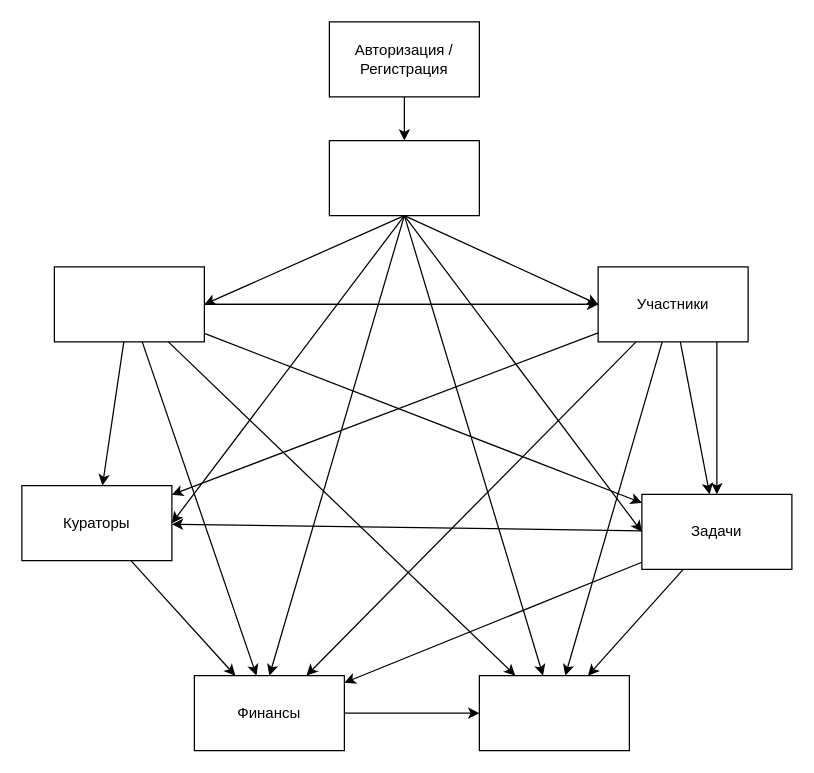
The diagram is 814 pixels wide and 773 high, and some of its shapes have lost their labels. Each missing label, with the box of its shape:
Моя страница: (328, 139, 479, 216)
Проекты: (53, 266, 204, 342)
Сессии: (478, 674, 629, 751)
